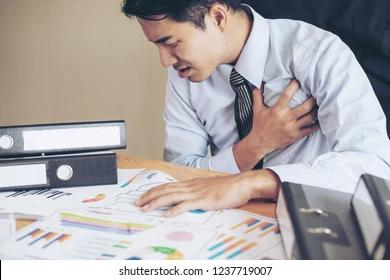pain: (140, 34, 189, 51)
